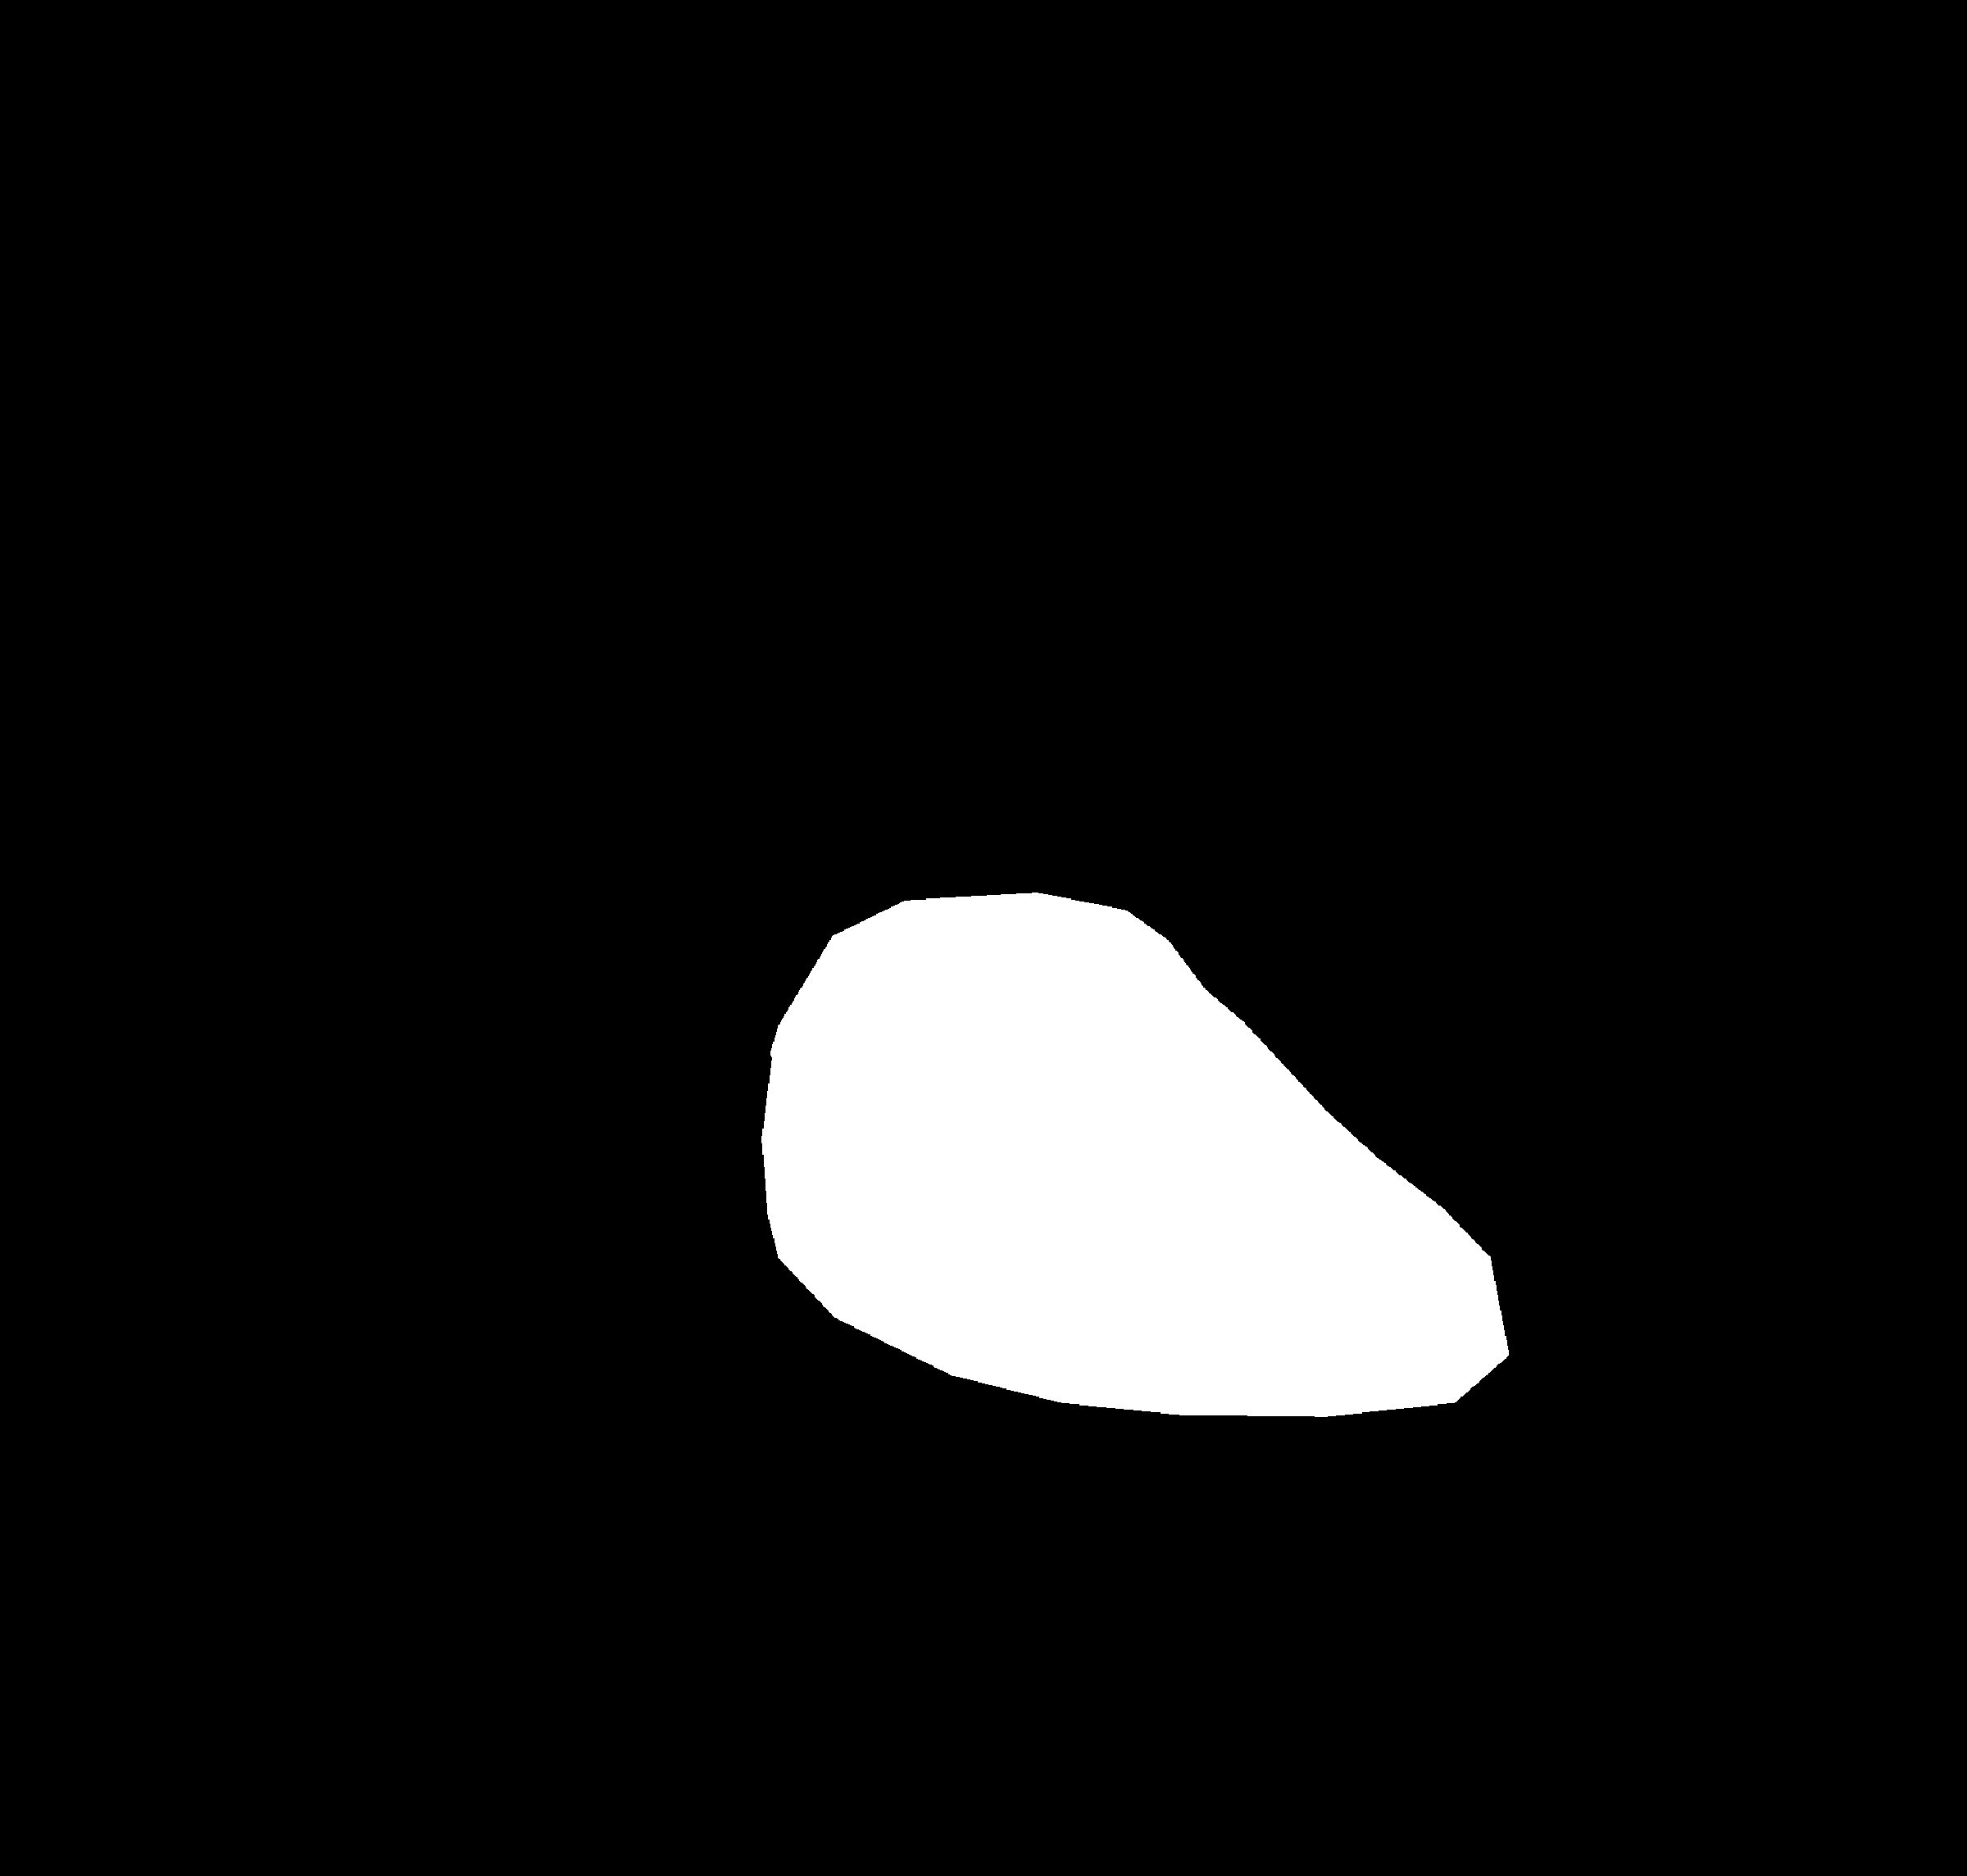heart: (771, 963, 1524, 1468)
left_lung: (276, 425, 883, 1497)
right_lung: (1092, 332, 1660, 1261)
